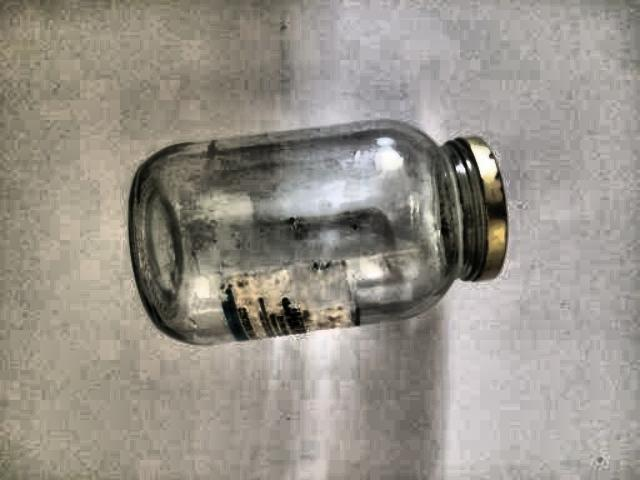Almennt: (103, 75, 536, 372)
